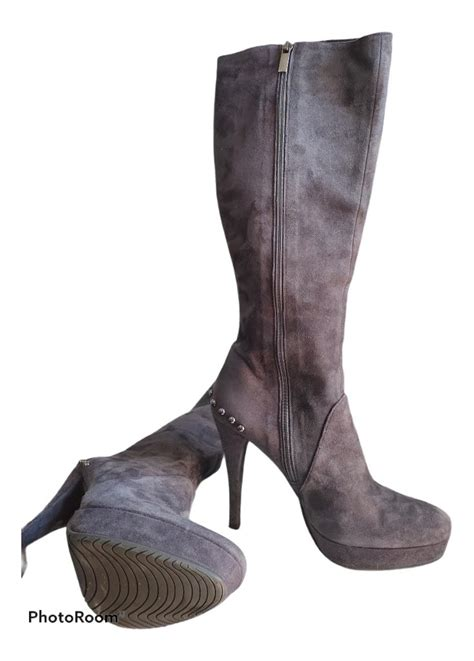gamuza: (24, 31, 451, 550)
